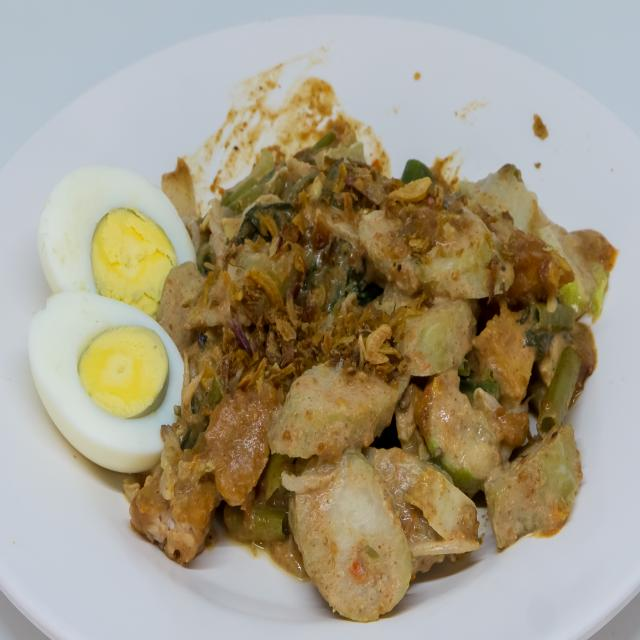Gado-Gado: (25, 104, 598, 627)
